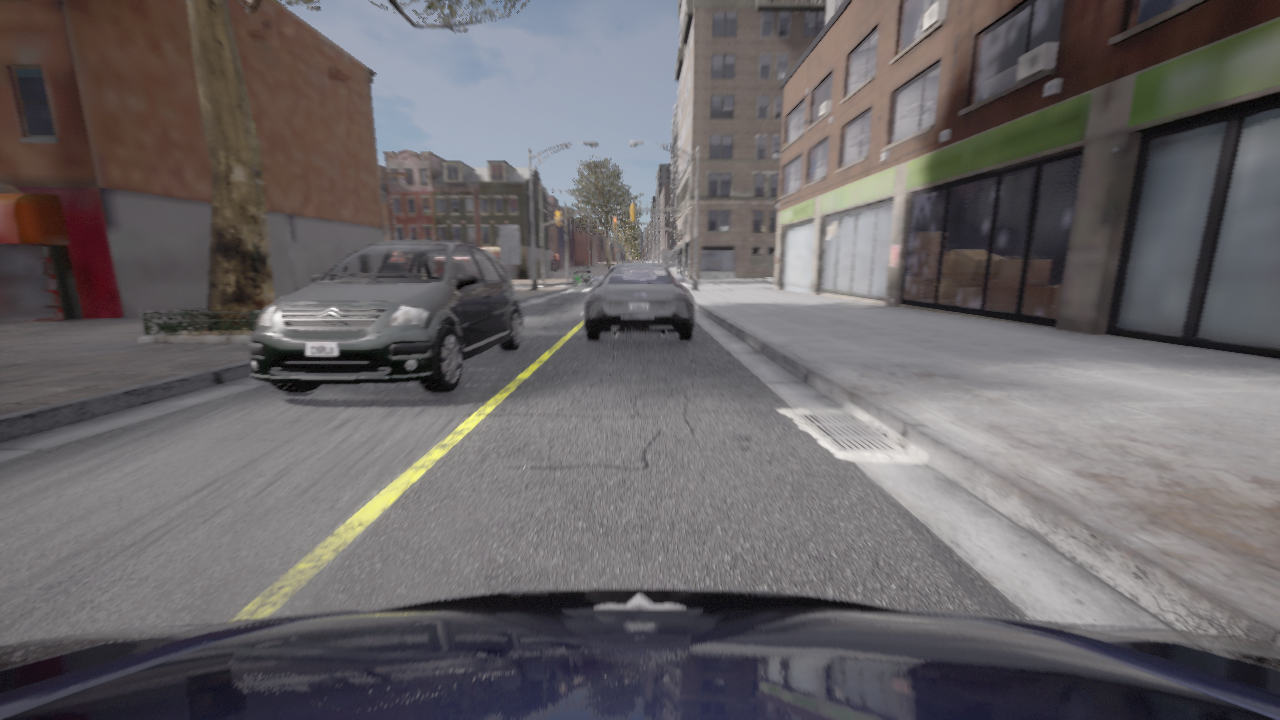cyclist: (0, 588, 1279, 719), (249, 241, 522, 392), (583, 264, 694, 340), (571, 271, 592, 285)
